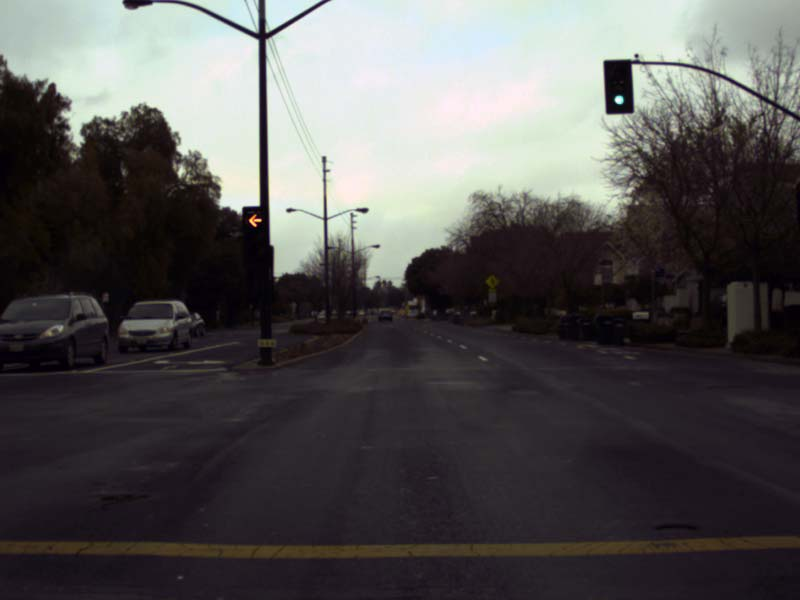Green: (606, 57, 631, 114)
Red: (242, 206, 270, 266)
